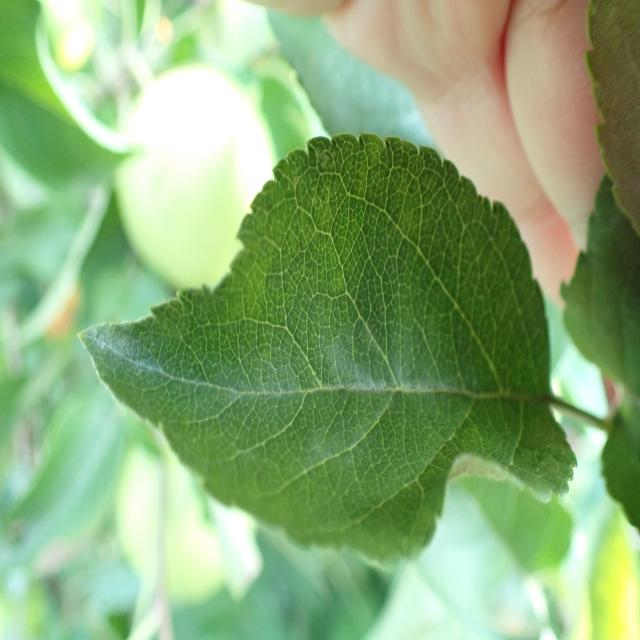Powdery_mildew: (89, 125, 560, 556)
